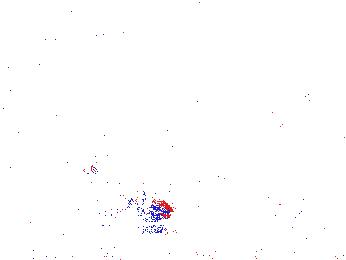flame jellyfish: (84, 170, 172, 226), (273, 172, 346, 228)
